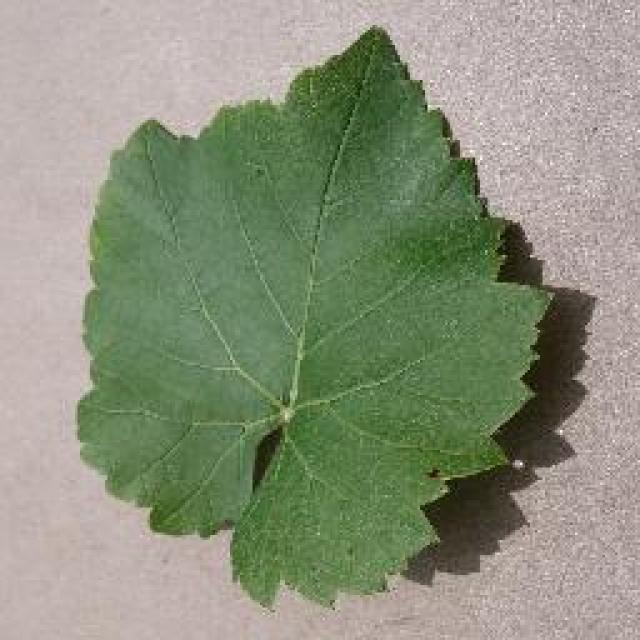Grape___healthy: (64, 18, 570, 627)
